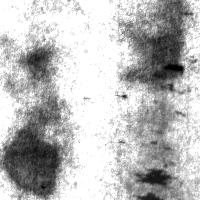patches: (125, 67, 200, 200), (109, 113, 200, 200), (127, 6, 188, 95), (1, 115, 62, 197), (18, 43, 52, 82), (135, 167, 174, 198)
